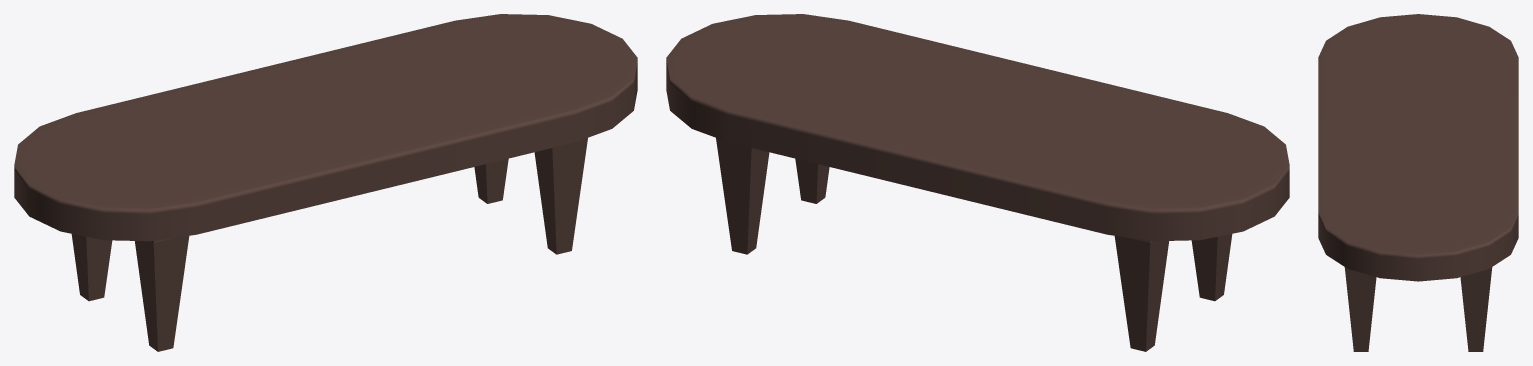
The model's file is table2.gltf.
3 views of the same model, side by side, from view 1: azimuth 30°, elevation 25°; view 2: azimuth 150°, elevation 25°; view 3: azimuth 270°, elevation 25° (orthographic). The views are drawn at different scales.
Parts seen in each view (by area): view 1: Cylinder.001, Cube; view 2: Cylinder.001, Cube; view 3: Cylinder.001, Cube.
Boxes of the visible parts, x1,y1,x2,y2 form: Cylinder.001: (14, 14, 637, 241); Cube: (71, 138, 587, 351); Cylinder.001: (666, 14, 1289, 241); Cube: (716, 138, 1232, 351); Cylinder.001: (1318, 14, 1518, 281); Cube: (1344, 267, 1492, 351).
Bounding box in the file's own units: 3.8 × 0.9917 × 1.34.
